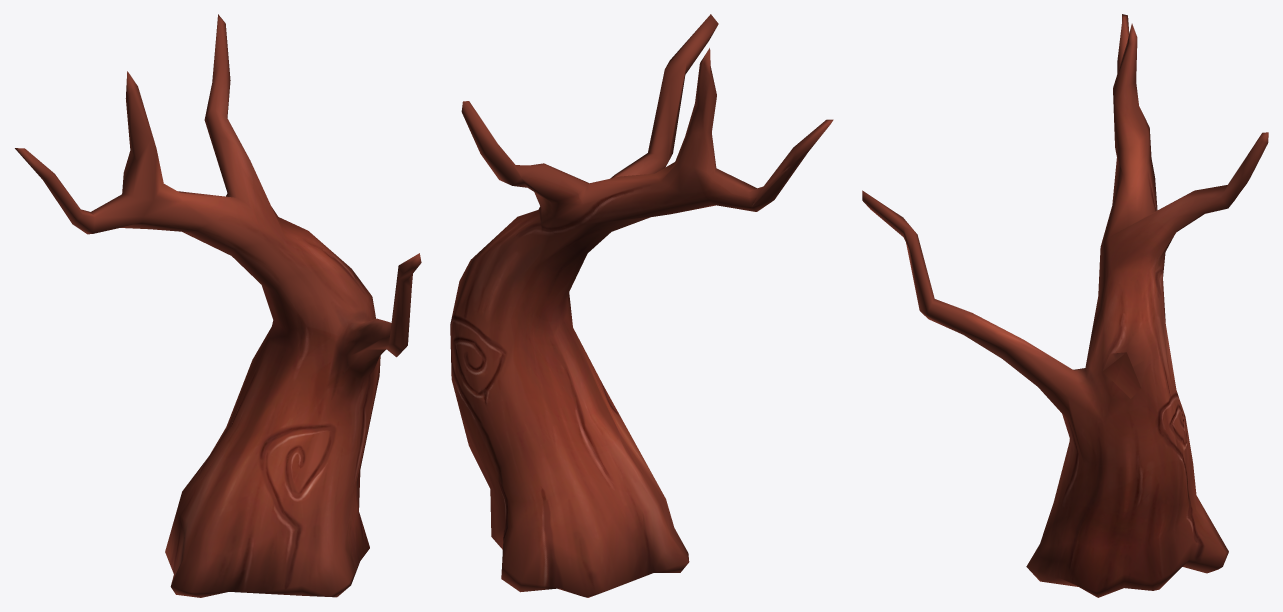
File: Tree 2.fbx
The picture shows the model from 3 angles, left to right: view 1: azimuth 30°, elevation 25°; view 2: azimuth 150°, elevation 25°; view 3: azimuth 270°, elevation 25°; orthographic projection. The views are drawn at different scales.
Visible parts, largest first — view 1: tree; view 2: tree; view 3: tree.
Part boxes in pixels (<box>): tree: <box>15,14,421,597</box>; tree: <box>450,14,833,597</box>; tree: <box>862,14,1268,597</box>.
Bounding box in the file's own units: 1174 × 1665 × 1250.
